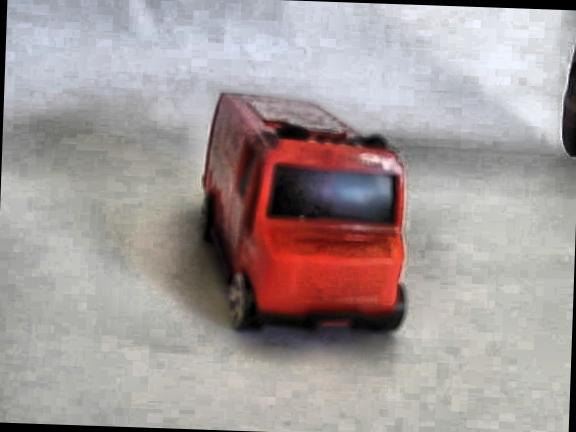fire_truck: (196, 88, 418, 342)
